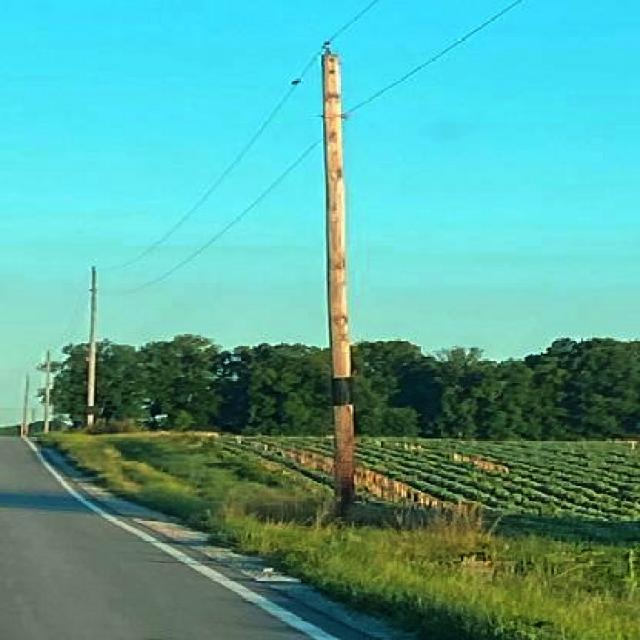pole: (319, 52, 359, 505), (84, 266, 98, 425)
wire: (99, 0, 383, 285), (97, 133, 322, 297), (339, 0, 528, 124)
